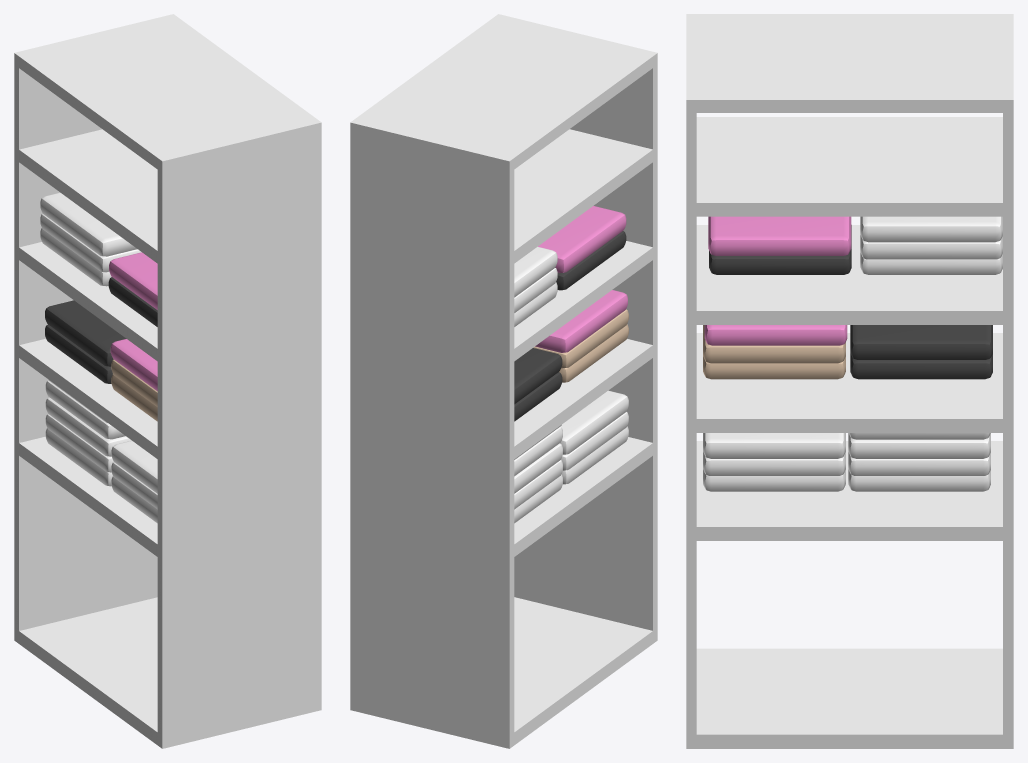
Rendered from tana_C.fbx.
3 views of the same model, side by side, from view 1: azimuth 30°, elevation 25°; view 2: azimuth 150°, elevation 25°; view 3: azimuth 270°, elevation 25° (orthographic). The views are drawn at different scales.
Visible parts, largest first — view 1: pCube135; view 2: pCube135; view 3: pCube135.
Boxes of the visible parts, left/top/right/bottom form: pCube135: left=14, top=14, right=321, bottom=748; pCube135: left=350, top=14, right=657, bottom=748; pCube135: left=686, top=14, right=1013, bottom=748.
Bounding box in the file's own units: 3.47 × 12.22 × 5.59.
Materials: 1 (1 with a texture image).
